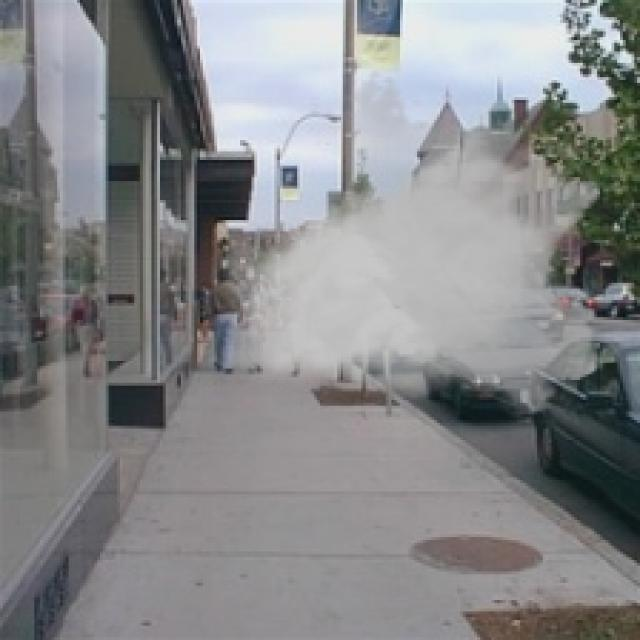smoke: (208, 68, 612, 426)
